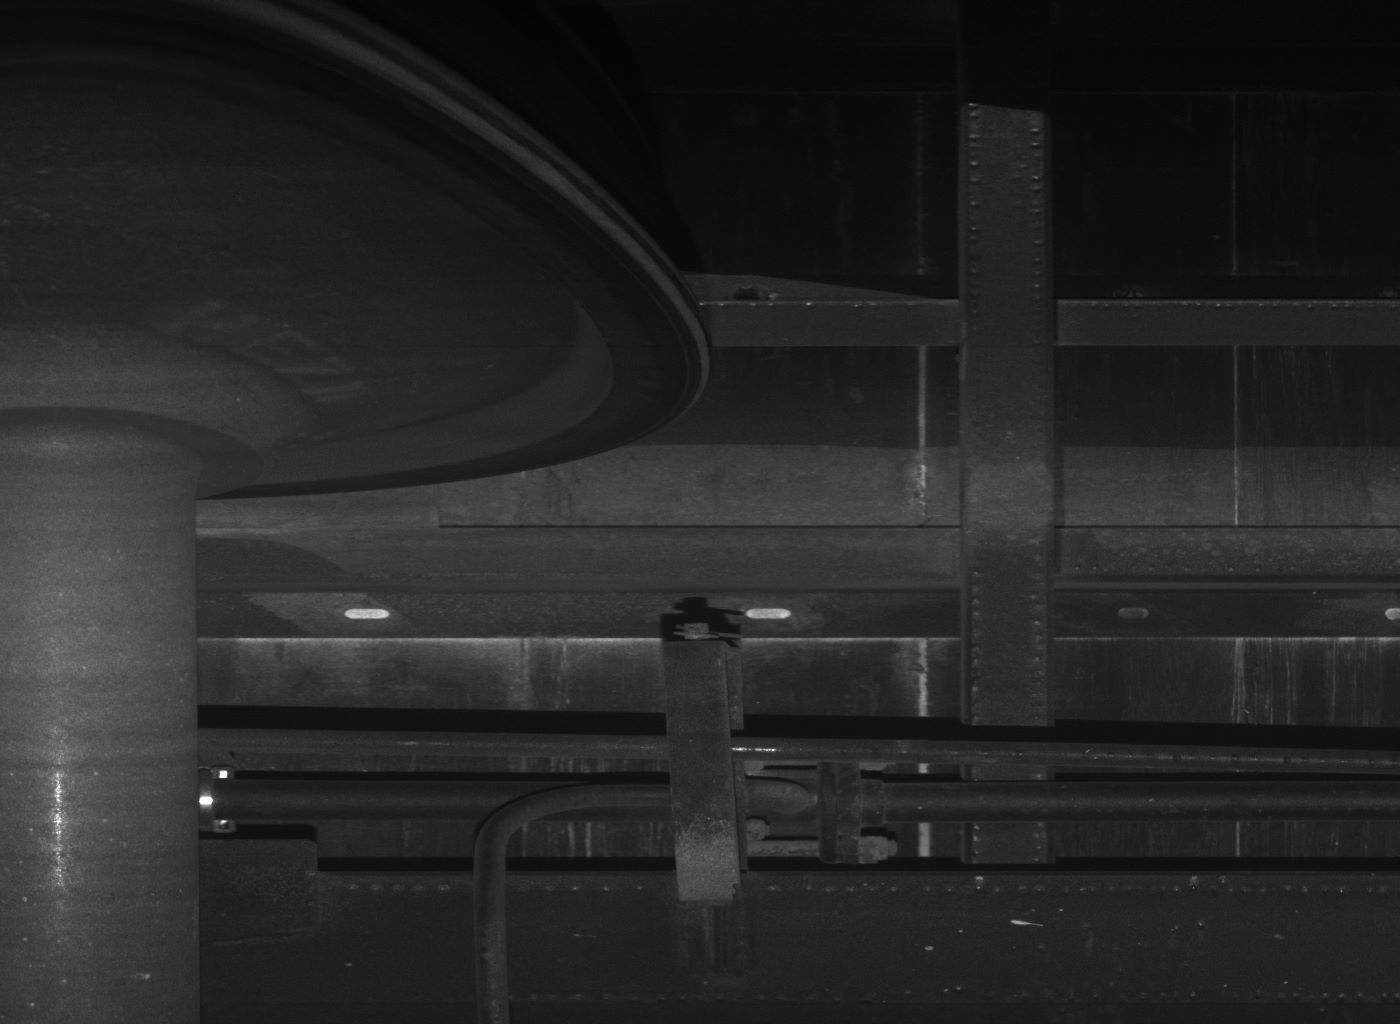normal: (663, 624, 741, 902)
